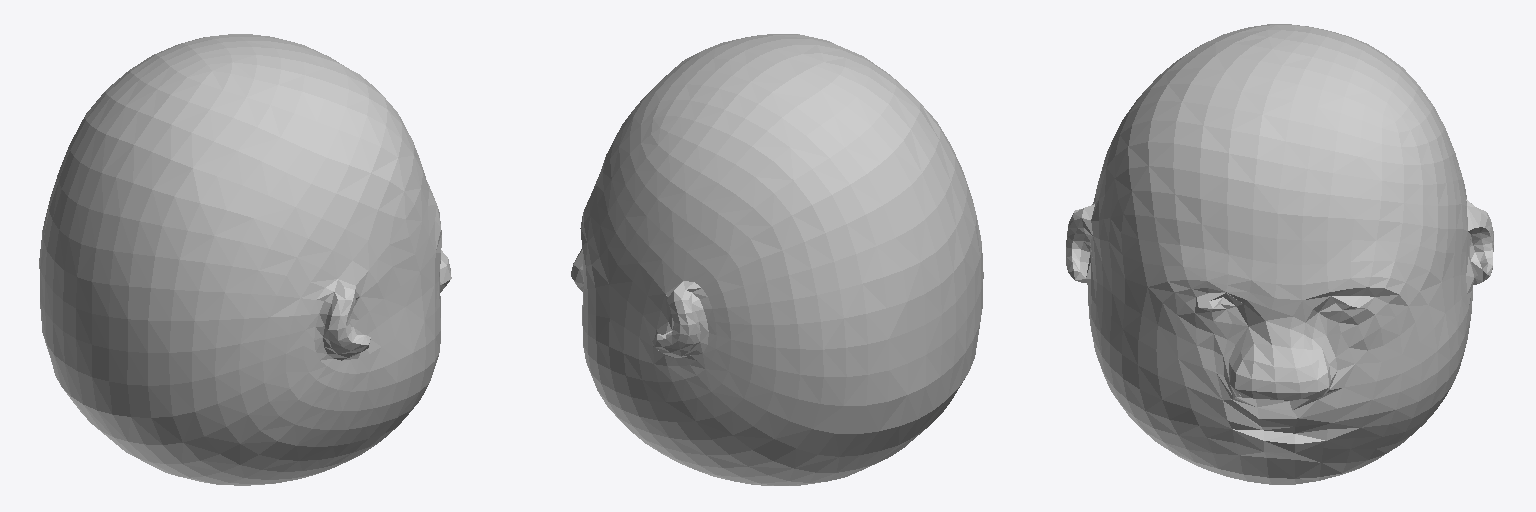
The model's file is roundHead.obj.
3 renders of one model, left to right at view 1: azimuth 30°, elevation 25°; view 2: azimuth 150°, elevation 25°; view 3: azimuth 270°, elevation 25°, orthographic.
Parts seen in each view (by area): view 1: mesh; view 2: mesh; view 3: mesh.
Part boxes in pixels (x1,y1,x2,y2): mesh: (39,34,451,485); mesh: (571,34,983,485); mesh: (1066,24,1493,484).
Bounding box in the file's own units: 0.9375 × 0.999 × 0.945.